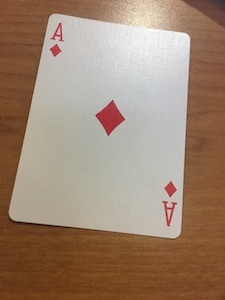AceOfDiamonds: (8, 12, 193, 243)
